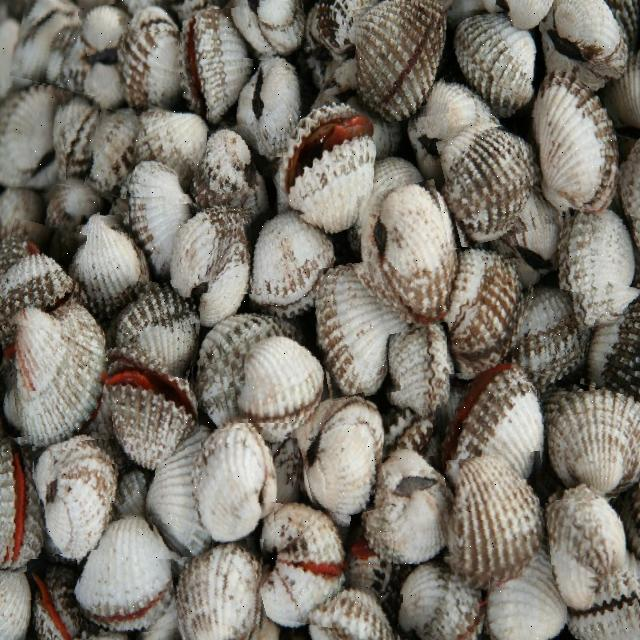Anadara_kagoshimensis: (2, 305, 110, 447), (363, 182, 458, 332), (446, 454, 549, 584), (199, 294, 295, 423), (536, 69, 617, 216), (76, 518, 175, 636), (448, 368, 546, 485), (281, 107, 374, 230), (315, 262, 397, 399), (255, 505, 347, 625), (442, 126, 536, 243), (355, 0, 445, 121), (99, 355, 200, 462), (297, 396, 384, 519), (545, 388, 640, 497), (171, 200, 250, 324), (554, 209, 634, 329), (106, 279, 205, 375), (365, 457, 451, 565), (169, 543, 264, 640), (0, 221, 81, 331), (196, 428, 274, 542), (452, 16, 539, 117), (246, 214, 334, 313), (36, 441, 112, 554), (544, 500, 624, 606), (448, 249, 522, 363), (239, 341, 325, 439), (148, 431, 211, 558), (513, 285, 589, 389), (66, 215, 146, 311), (181, 8, 247, 118), (129, 161, 189, 281), (484, 559, 569, 640), (0, 86, 65, 188), (400, 566, 489, 640), (136, 105, 208, 194), (199, 125, 266, 220), (235, 60, 298, 156), (585, 283, 640, 392), (0, 437, 44, 572), (14, 0, 80, 85), (305, 584, 401, 640), (565, 572, 640, 640), (88, 110, 140, 198), (52, 92, 98, 190), (124, 32, 182, 106), (43, 187, 103, 254), (27, 559, 75, 640), (344, 531, 393, 600), (258, 0, 308, 54), (384, 405, 433, 458), (111, 460, 154, 520), (80, 4, 130, 54), (81, 69, 123, 110)
